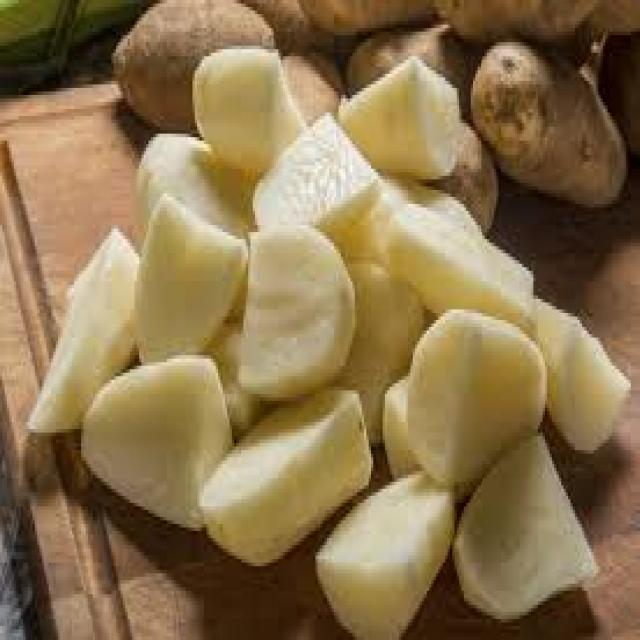organic waste: (199, 383, 371, 563), (447, 422, 596, 622), (79, 352, 232, 531), (468, 35, 626, 204), (403, 302, 542, 482), (311, 464, 452, 637), (23, 222, 137, 429), (130, 186, 248, 362), (109, 0, 274, 123), (383, 201, 533, 334), (234, 225, 353, 390), (325, 253, 422, 443), (531, 292, 628, 454), (338, 53, 457, 183), (248, 109, 376, 229), (188, 38, 301, 168), (341, 10, 473, 120), (132, 130, 251, 243), (202, 264, 260, 429), (424, 113, 494, 232), (429, 0, 594, 42), (378, 169, 480, 232), (334, 169, 396, 267), (296, 0, 434, 39), (596, 32, 638, 151), (278, 42, 339, 120), (380, 369, 418, 478), (243, 0, 310, 49), (572, 0, 638, 35)
